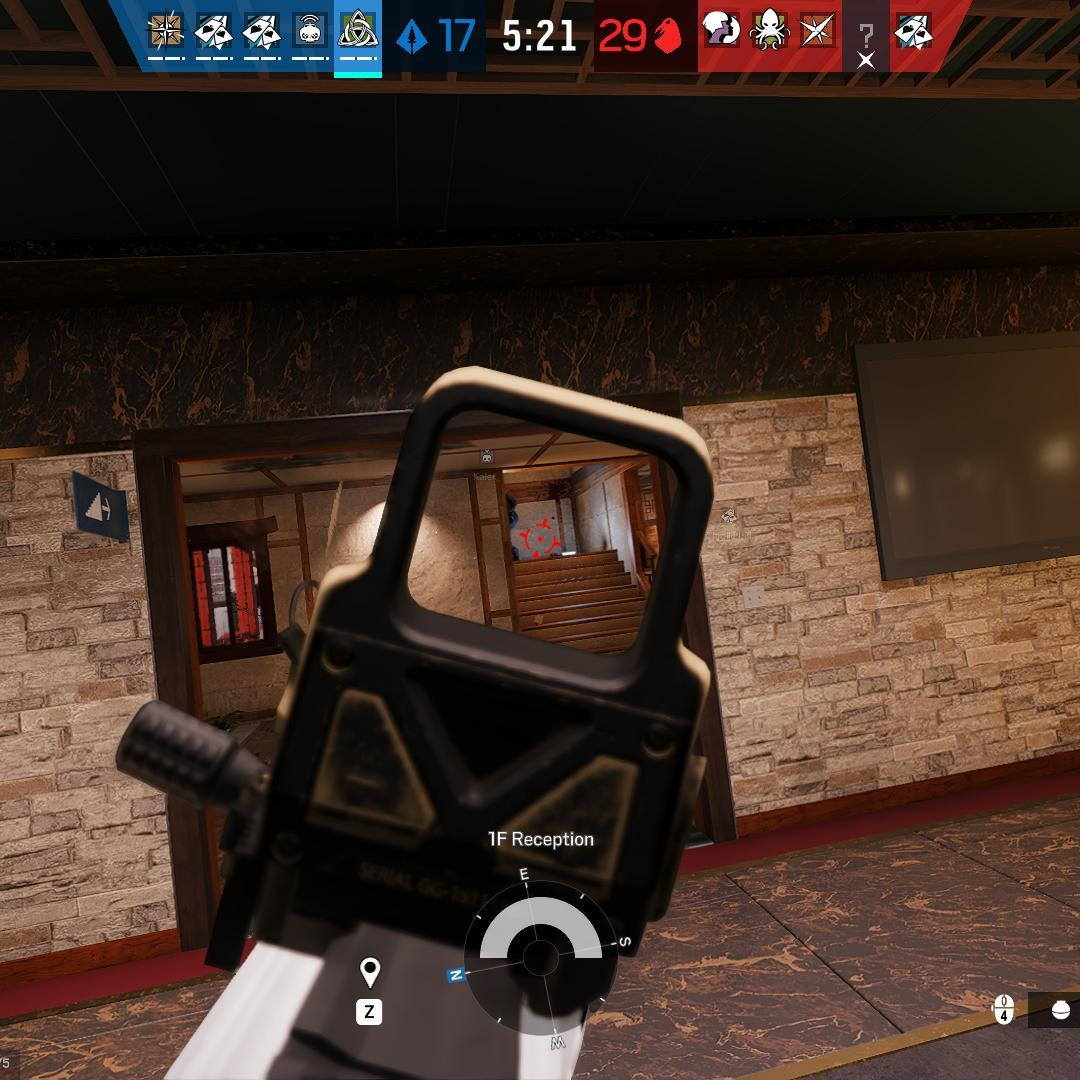Character: (504, 489, 520, 564)
Friend_label: (711, 507, 750, 542), (473, 446, 500, 481)
